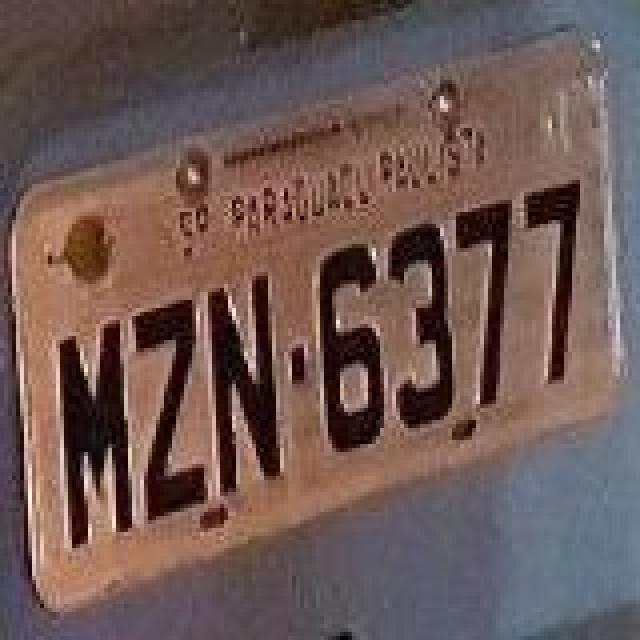3: (386, 224, 454, 432)
6: (318, 244, 386, 460)
7: (454, 198, 514, 410), (522, 176, 582, 384)
M: (56, 322, 136, 550)
N: (206, 270, 282, 498)
Z: (130, 294, 206, 522)
